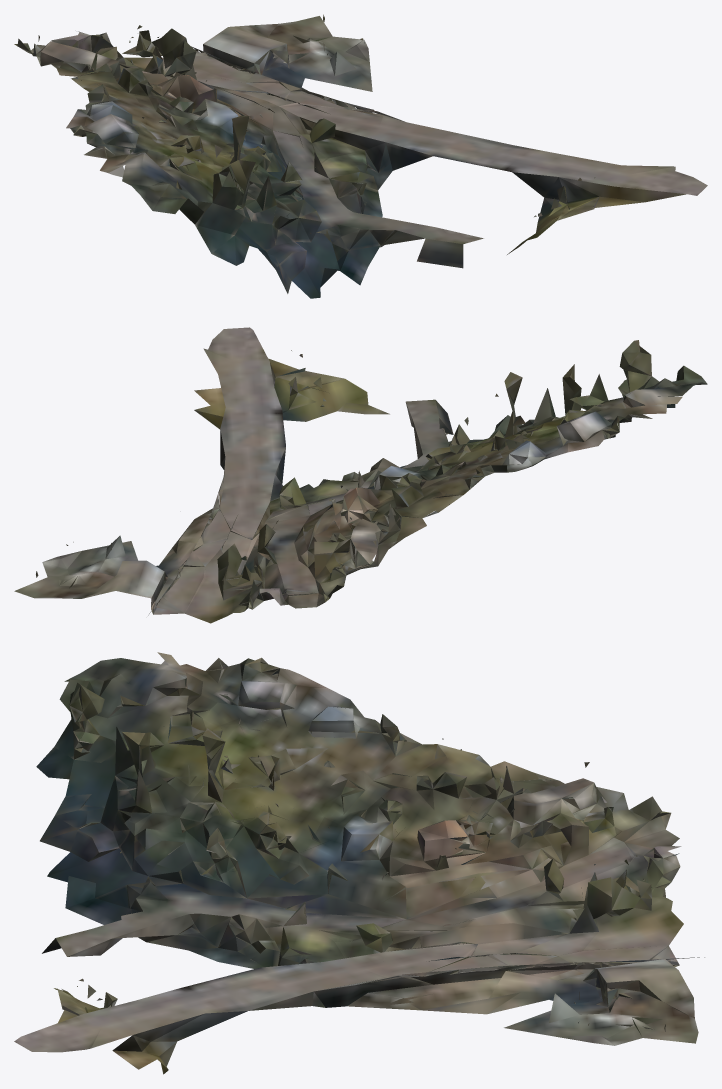
The model's file is Tile_006_007_L15.gltf.
3 views of the same model, one above another, from view 1: azimuth 30°, elevation 25°; view 2: azimuth 150°, elevation 25°; view 3: azimuth 270°, elevation 25° (orthographic). The views are drawn at different scales.
Parts seen in each view (by area): view 1: Tile_+006_+007_L15; view 2: Tile_+006_+007_L15; view 3: Tile_+006_+007_L15.
Boxes of the visible parts, left/top/right/bottom form: Tile_+006_+007_L15: left=14, top=14, right=707, bottom=298; Tile_+006_+007_L15: left=14, top=327, right=707, bottom=623; Tile_+006_+007_L15: left=14, top=652, right=704, bottom=1074.
Size of the model in its own units: 230 by 68.44 by 235.
1 material, 1 textured.
